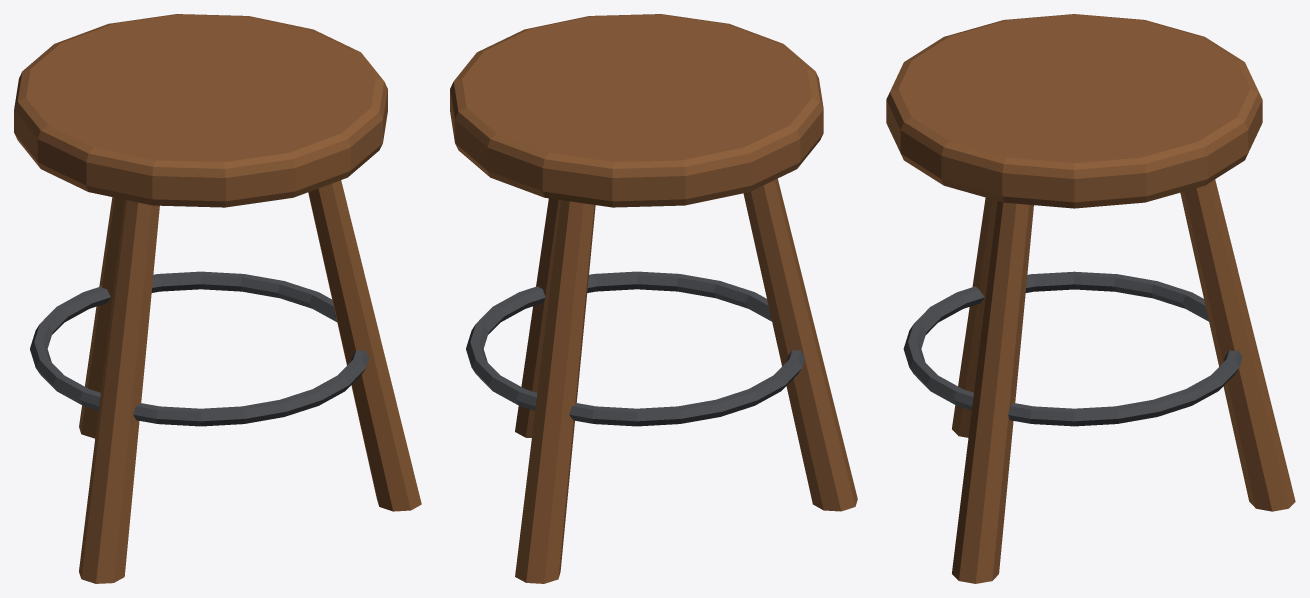
The model's file is wooden-stool_final.glb.
3 views of the same model, side by side, from view 1: azimuth 30°, elevation 25°; view 2: azimuth 150°, elevation 25°; view 3: azimuth 270°, elevation 25° (orthographic).
Visible parts, largest first — view 1: SM_WoodenStool_Seat, SM_WoodenStool_Leg_02, SM_WoodenStool_Leg_03, SM_WoodenStool_Brace, SM_WoodenStool_Leg_01; view 2: SM_WoodenStool_Seat, SM_WoodenStool_Leg_01, SM_WoodenStool_Leg_02, SM_WoodenStool_Brace, SM_WoodenStool_Leg_03; view 3: SM_WoodenStool_Seat, SM_WoodenStool_Leg_03, SM_WoodenStool_Leg_01, SM_WoodenStool_Brace, SM_WoodenStool_Leg_02.
Boxes of the visible parts, <box> form: SM_WoodenStool_Seat: <box>14,14,387,207</box>; SM_WoodenStool_Leg_02: <box>79,200,159,583</box>; SM_WoodenStool_Leg_03: <box>308,180,421,511</box>; SM_WoodenStool_Brace: <box>30,271,369,426</box>; SM_WoodenStool_Leg_01: <box>79,197,124,438</box>; SM_WoodenStool_Seat: <box>450,14,823,207</box>; SM_WoodenStool_Leg_01: <box>515,200,595,583</box>; SM_WoodenStool_Leg_02: <box>743,178,857,511</box>; SM_WoodenStool_Brace: <box>466,271,805,426</box>; SM_WoodenStool_Leg_03: <box>515,198,560,437</box>; SM_WoodenStool_Seat: <box>886,14,1262,208</box>; SM_WoodenStool_Leg_03: <box>952,201,1033,583</box>; SM_WoodenStool_Leg_01: <box>1180,179,1295,511</box>; SM_WoodenStool_Brace: <box>903,271,1242,426</box>; SM_WoodenStool_Leg_02: <box>952,197,997,437</box>.
Bounding box in the file's own units: 0.3936 × 0.46 × 0.4135.
